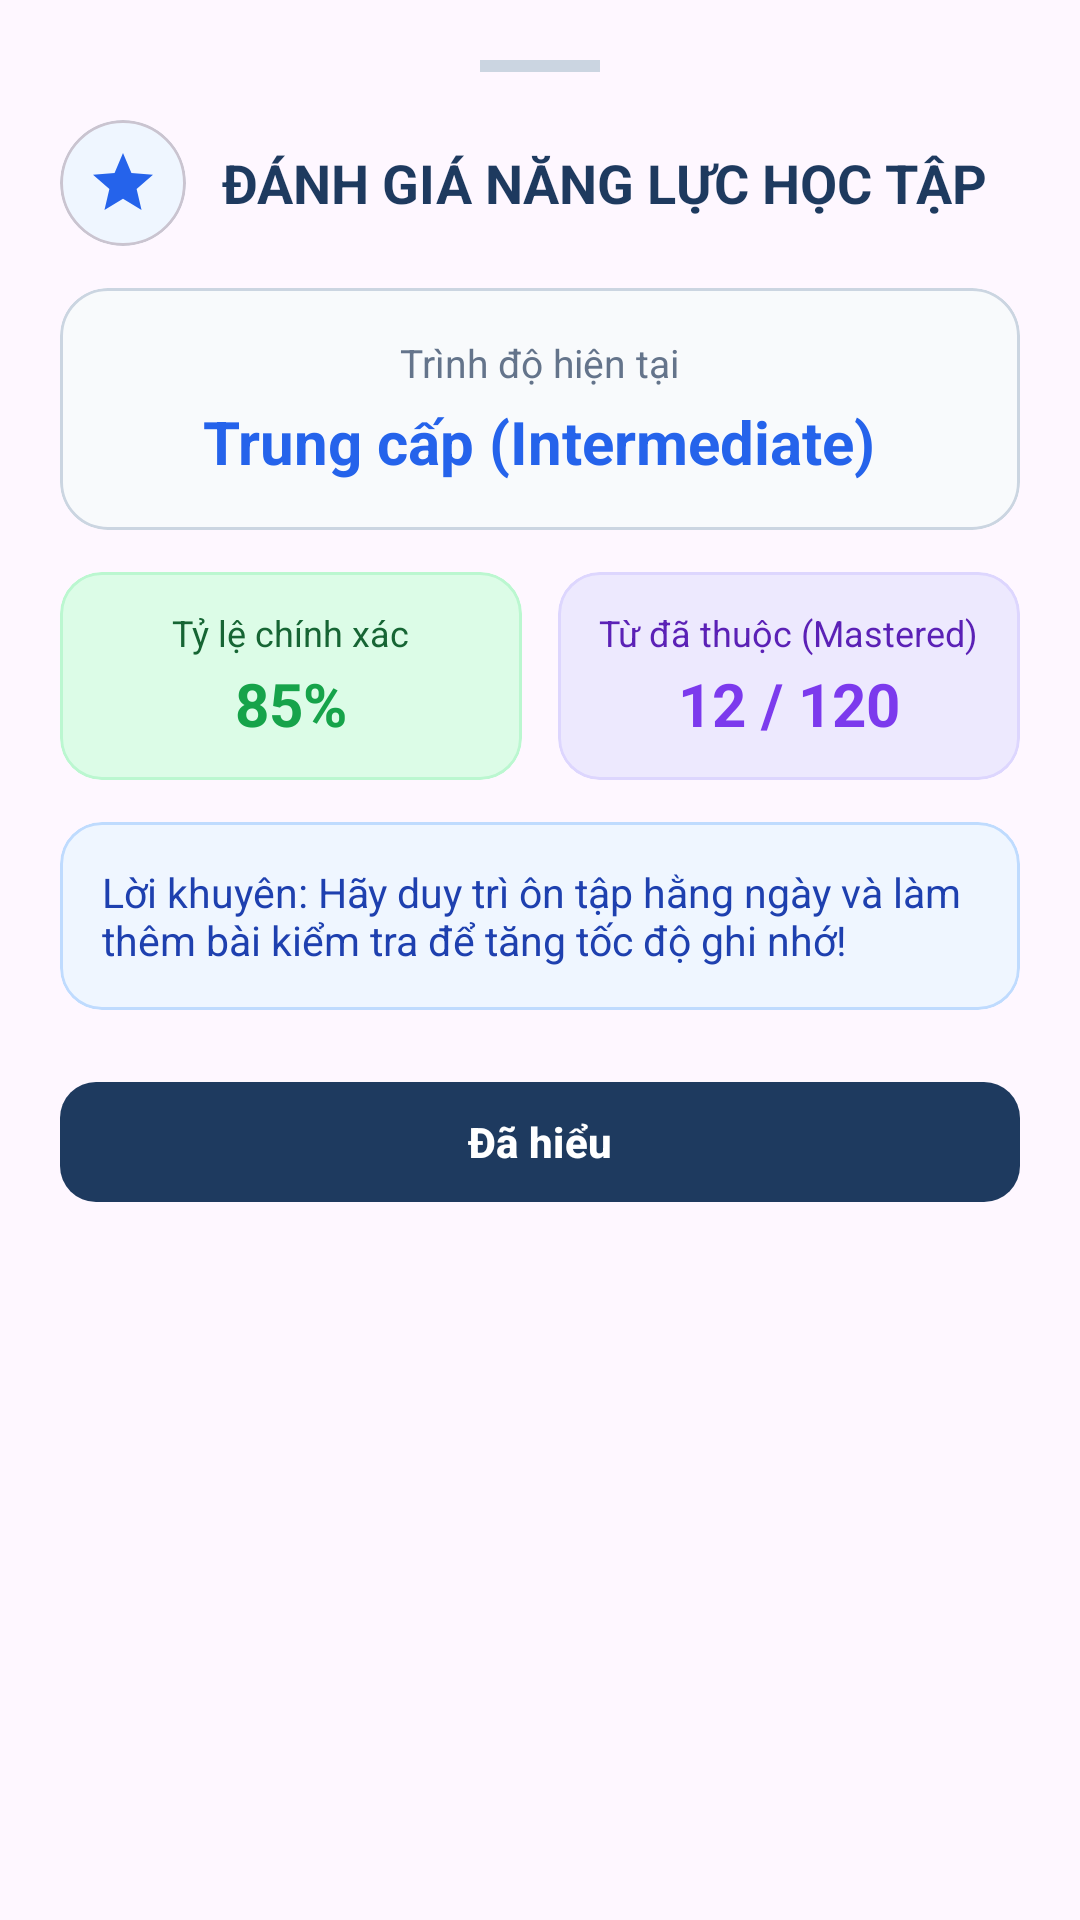

Named icons in this screenshot (1080x1920) and their centers, [x,y]:
star badge: [123,181]
